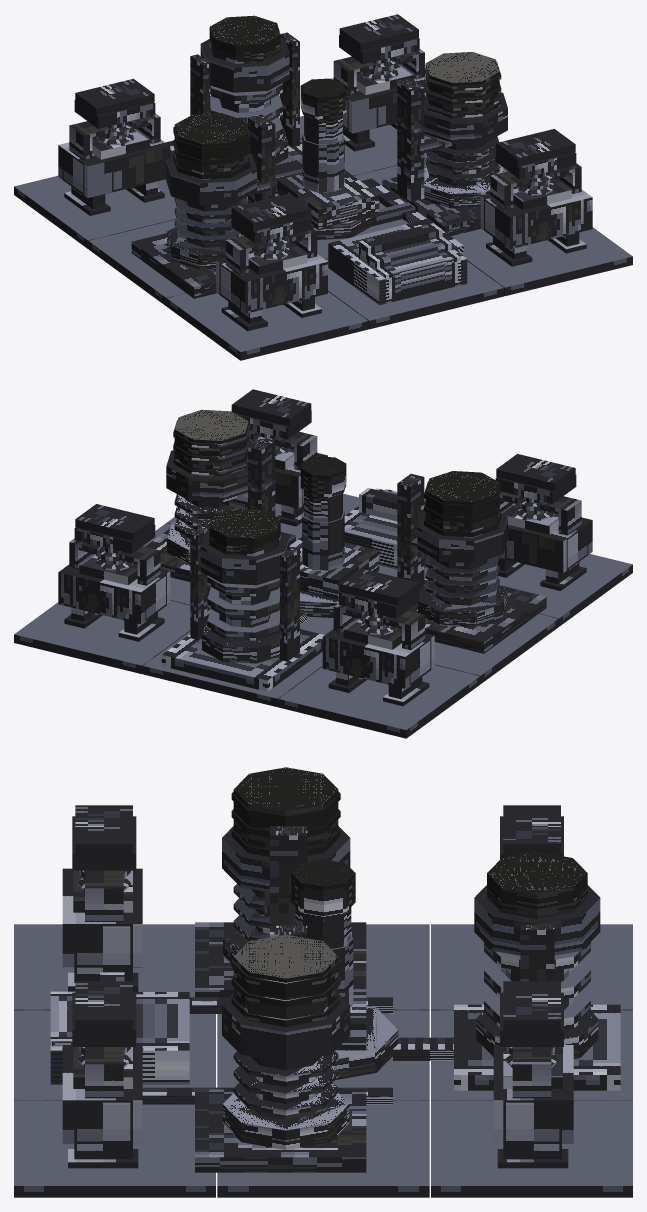
The model's file is gravity_generator_low_profile_fix1.glb.
3 renders of one model, top to bottom at view 1: azimuth 30°, elevation 25°; view 2: azimuth 150°, elevation 25°; view 3: azimuth 270°, elevation 25°, orthographic. The views are drawn at different scales.
Parts seen in each view (by area): view 1: Installation_Base_3x3, Generator_Center, Generator_Left_Coil, Generator_Right_Coil, Rear_Field_Stabilizer, Corner_2_Peripheral_Housing, Corner_1_Peripheral_Housing, Corner_3_Peripheral_Housing, Generator_Right_Brace, Corner_4_Peripheral_Housing, Corner_3_Peripheral_Cap, Corner_2_Peripheral_Cap (+12 smaller); view 2: Installation_Base_3x3, Rear_Field_Stabilizer, Generator_Left_Coil, Generator_Center, Generator_Right_Coil, Corner_4_Peripheral_Housing, Corner_3_Peripheral_Housing, Corner_1_Peripheral_Housing, Corner_4_Peripheral_Cap, Corner_3_Peripheral_Cap, Corner_1_Peripheral_Cap, Corner_2_Peripheral_Cap (+10 smaller); view 3: Installation_Base_3x3, Generator_Right_Coil, Rear_Field_Stabilizer, Generator_Center, Generator_Left_Coil, Corner_4_Peripheral_Housing, Corner_2_Peripheral_Housing, Corner_1_Peripheral_Housing, Corner_1_Peripheral_Cap, Corner_2_Peripheral_Cap, Corner_4_Peripheral_Cap, Corner_3_Peripheral_Cap (+5 smaller).
Boxes of the visible parts, x1,y1,x2,y2 form: Installation_Base_3x3: [14, 115, 632, 360]; Generator_Center: [275, 78, 467, 305]; Generator_Left_Coil: [131, 113, 256, 298]; Generator_Right_Coil: [382, 52, 507, 235]; Rear_Field_Stabilizer: [165, 15, 302, 193]; Corner_2_Peripheral_Housing: [480, 178, 592, 266]; Corner_1_Peripheral_Housing: [216, 243, 327, 331]; Corner_3_Peripheral_Housing: [58, 128, 170, 215]; Generator_Right_Brace: [397, 78, 452, 201]; Corner_4_Peripheral_Housing: [331, 64, 425, 151]; Corner_3_Peripheral_Cap: [74, 78, 155, 128]; Corner_2_Peripheral_Cap: [495, 129, 576, 178]; Installation_Base_3x3: [14, 493, 632, 738]; Rear_Field_Stabilizer: [161, 508, 324, 691]; Generator_Left_Coil: [407, 471, 546, 653]; Generator_Center: [279, 456, 427, 617]; Generator_Right_Coil: [145, 409, 295, 586]; Corner_4_Peripheral_Housing: [58, 553, 170, 641]; Corner_3_Peripheral_Housing: [322, 618, 434, 706]; Corner_1_Peripheral_Housing: [497, 503, 592, 590]; Corner_4_Peripheral_Cap: [74, 504, 155, 553]; Corner_3_Peripheral_Cap: [339, 568, 419, 618]; Corner_1_Peripheral_Cap: [495, 454, 576, 503]; Corner_2_Peripheral_Cap: [231, 389, 311, 439]; Installation_Base_3x3: [14, 924, 632, 1197]; Generator_Right_Coil: [195, 934, 366, 1172]; Rear_Field_Stabilizer: [393, 852, 620, 1090]; Generator_Center: [50, 859, 398, 1084]; Generator_Left_Coil: [195, 767, 366, 997]; Corner_4_Peripheral_Housing: [493, 1045, 573, 1168]; Corner_2_Peripheral_Housing: [62, 1045, 142, 1168]; Corner_1_Peripheral_Housing: [62, 868, 142, 991]; Corner_1_Peripheral_Cap: [72, 805, 136, 870]; Corner_2_Peripheral_Cap: [72, 981, 136, 1046]; Corner_4_Peripheral_Cap: [500, 981, 563, 1046]; Corner_3_Peripheral_Cap: [500, 805, 563, 859].
Bounding box in the file's own units: 5.79 × 2 × 5.79.
3 materials, 3 textured.
